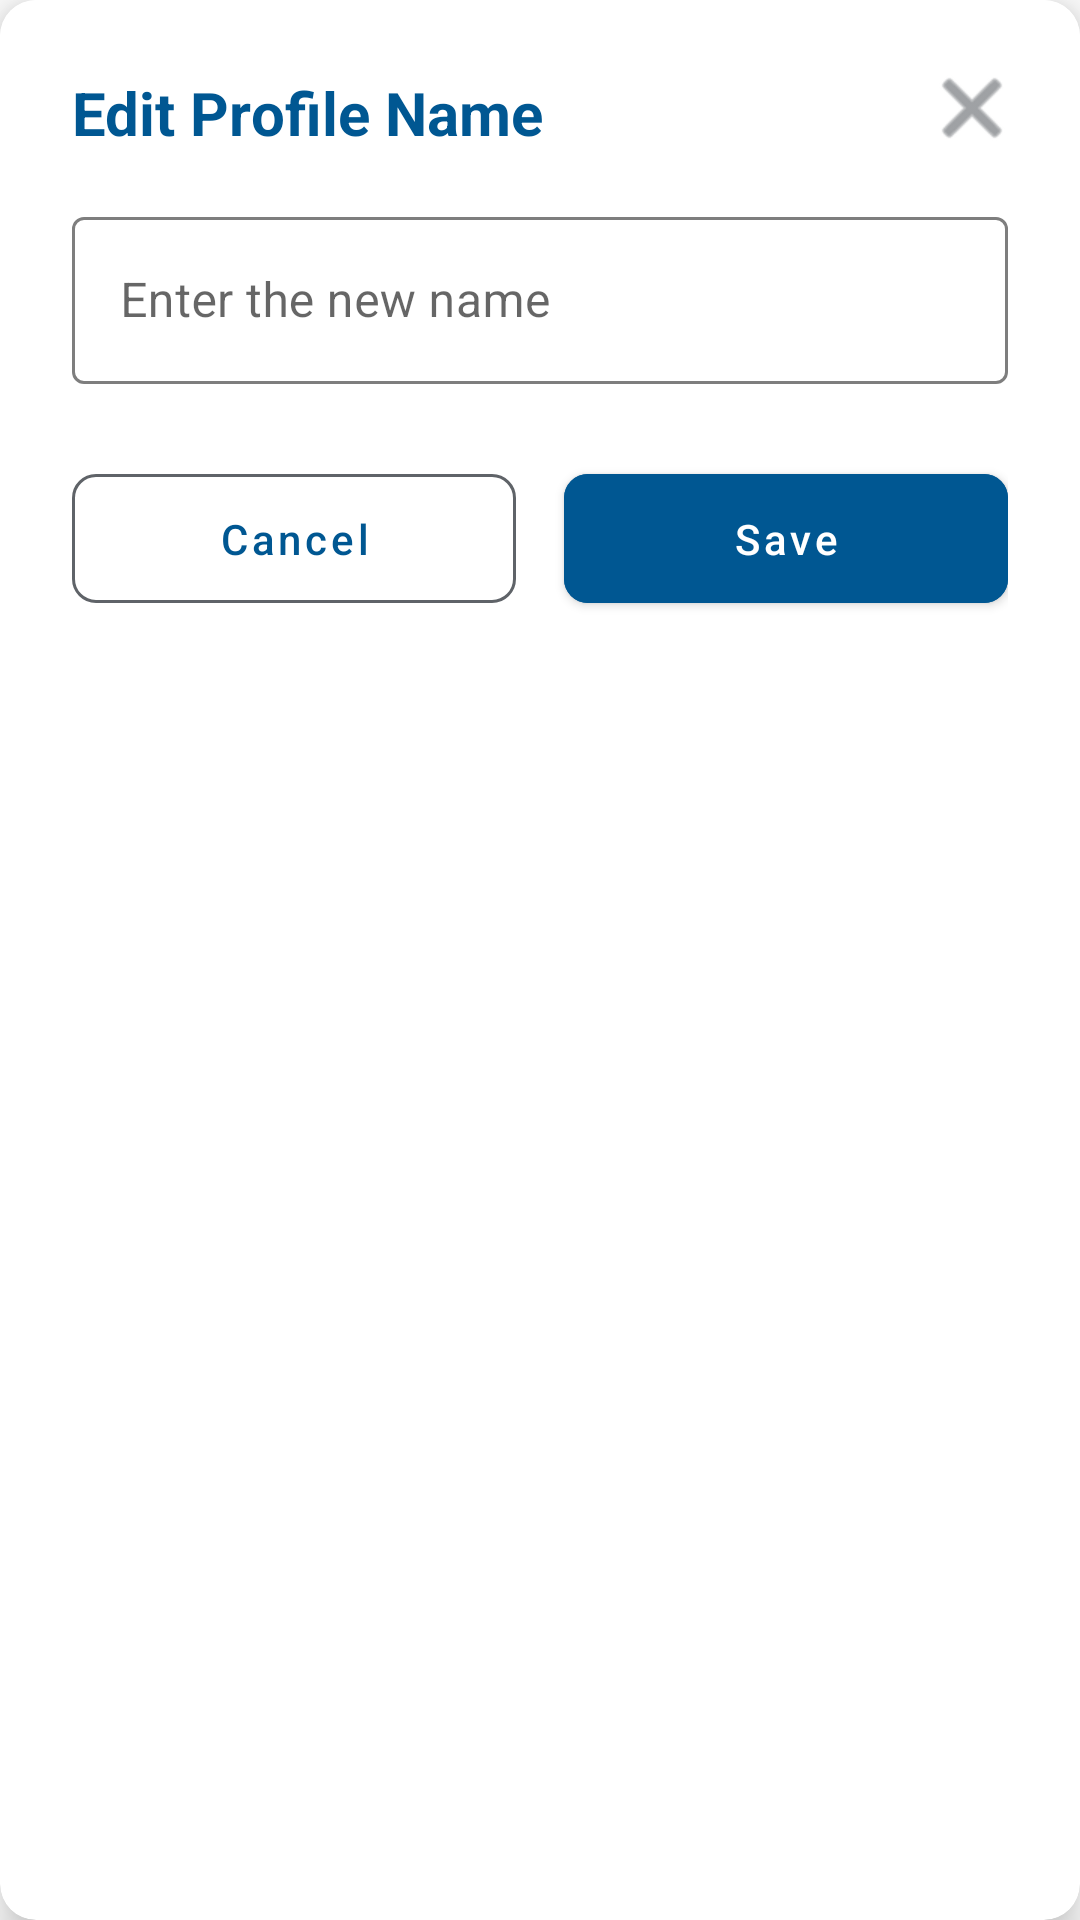

Screen size 1080px x 1920px. Icon name, then its box in pixels as (x1, y1, x2, y2):
Close: (942, 78, 1002, 138)
